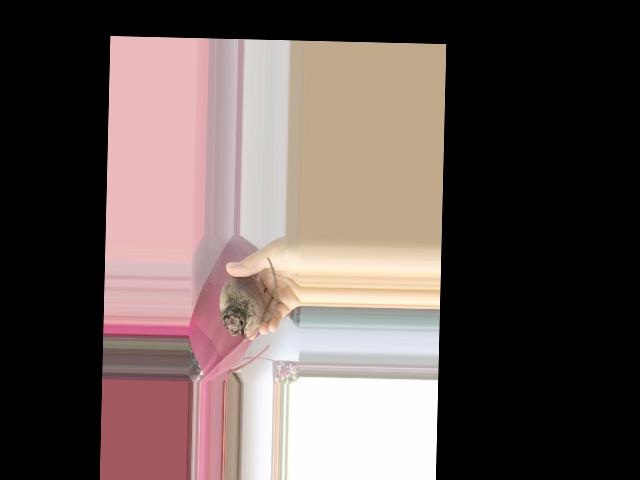beet: (218, 256, 278, 342)
